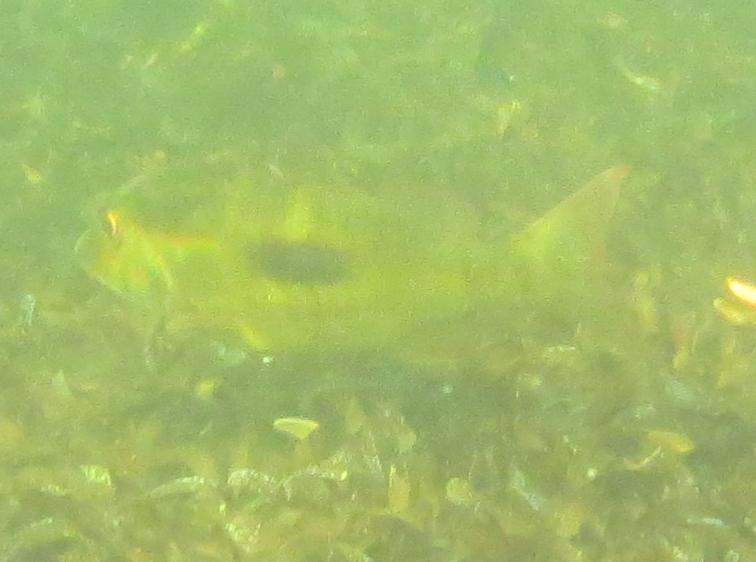Fish: (66, 146, 629, 352)
